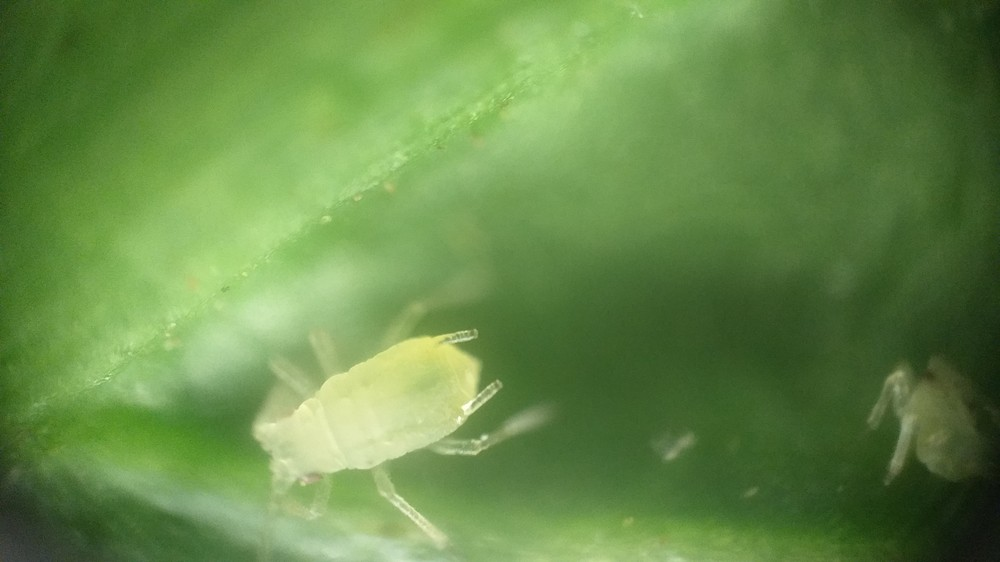Pulgon: (232, 286, 568, 551), (844, 316, 1000, 510)
